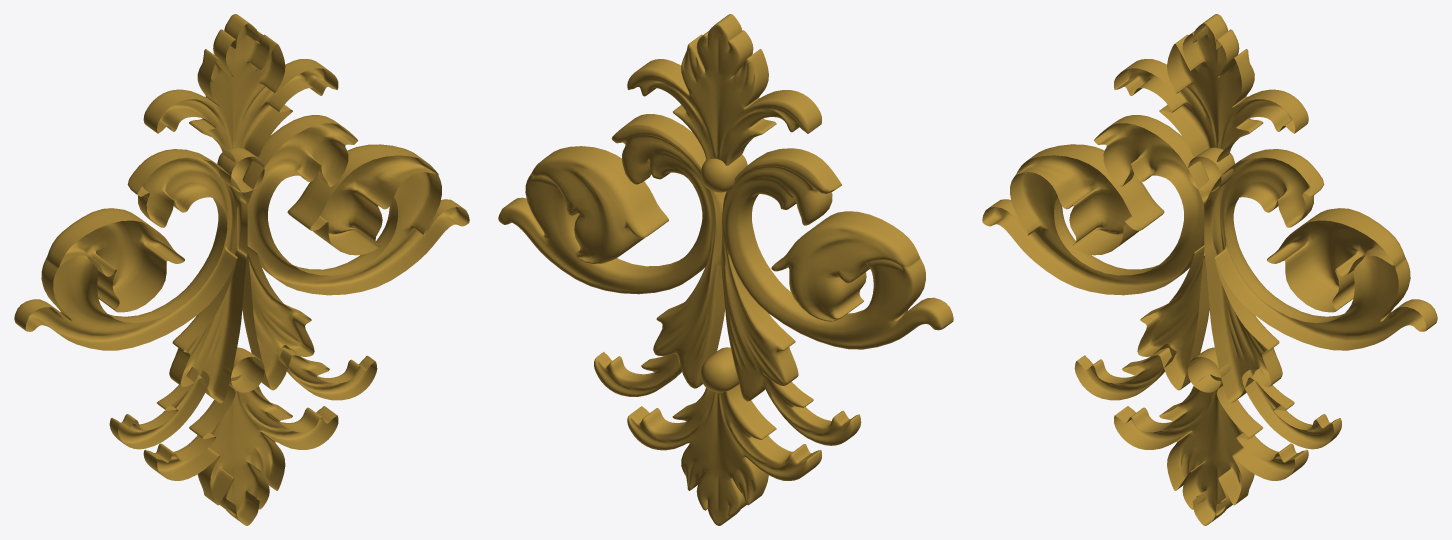
Rendered from gold-molding-decor.glb.
3 views of the same model, side by side, from view 1: azimuth 30°, elevation 25°; view 2: azimuth 150°, elevation 25°; view 3: azimuth 330°, elevation 25° (orthographic).
Visible parts, largest first — view 1: Molding decor; view 2: Molding decor; view 3: Molding decor.
Part boxes in pixels (x1,y1,x2,y2): Molding decor: [14, 14, 469, 525]; Molding decor: [498, 14, 953, 525]; Molding decor: [982, 14, 1437, 525].
Bounding box in the file's own units: 0.189 × 0.2044 × 0.0212.
